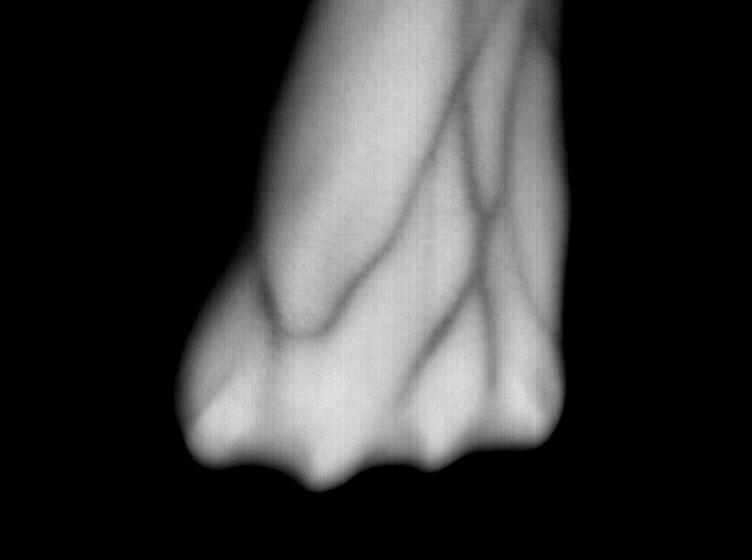Vein: (331, 63, 524, 351)
